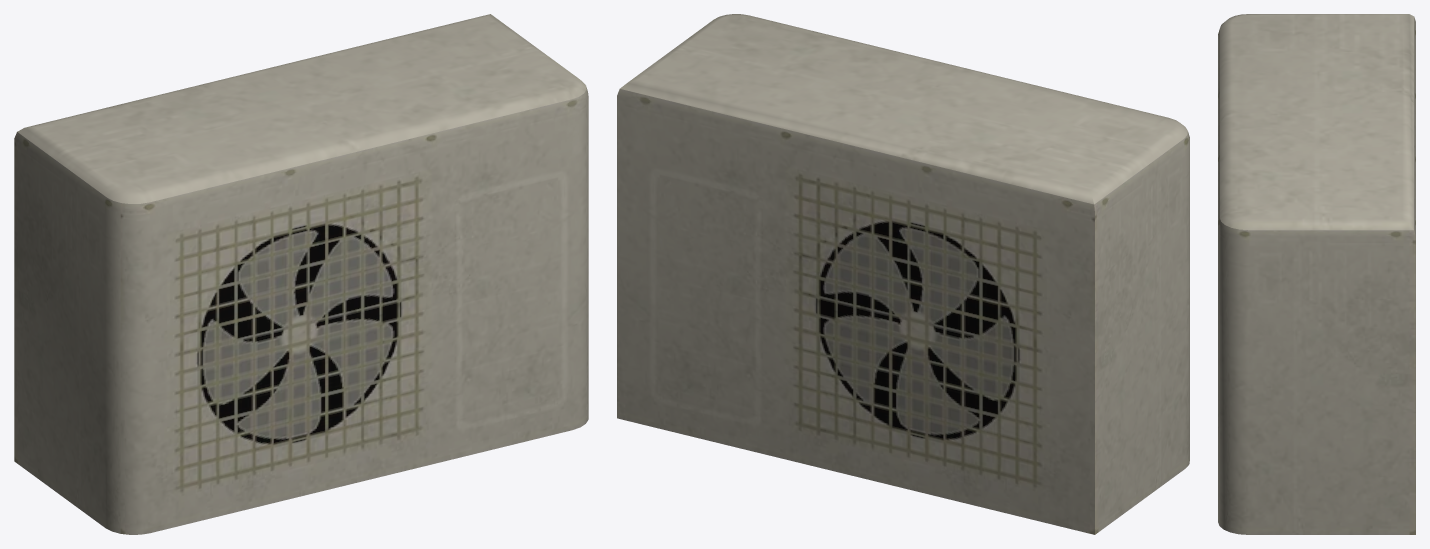
File: Prop_ACUnit.gltf
The picture shows the model from 3 angles, left to right: view 1: azimuth 30°, elevation 25°; view 2: azimuth 150°, elevation 25°; view 3: azimuth 270°, elevation 25°; orthographic projection. The views are drawn at different scales.
Parts seen in each view (by area): view 1: Prop_ACUnit; view 2: Prop_ACUnit; view 3: Prop_ACUnit.
Boxes of the visible parts, x1,y1,x2,y2 form: Prop_ACUnit: (14, 14, 588, 534); Prop_ACUnit: (617, 14, 1189, 534); Prop_ACUnit: (1218, 14, 1415, 534).
Bounding box in the file's own units: 0.8932 × 0.6 × 0.3471.
1 material, 1 textured.
